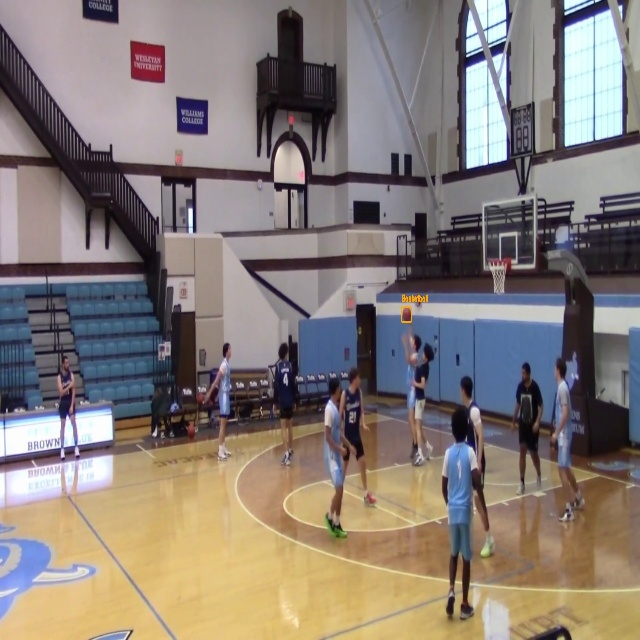Basketball: (402, 307, 411, 322)
